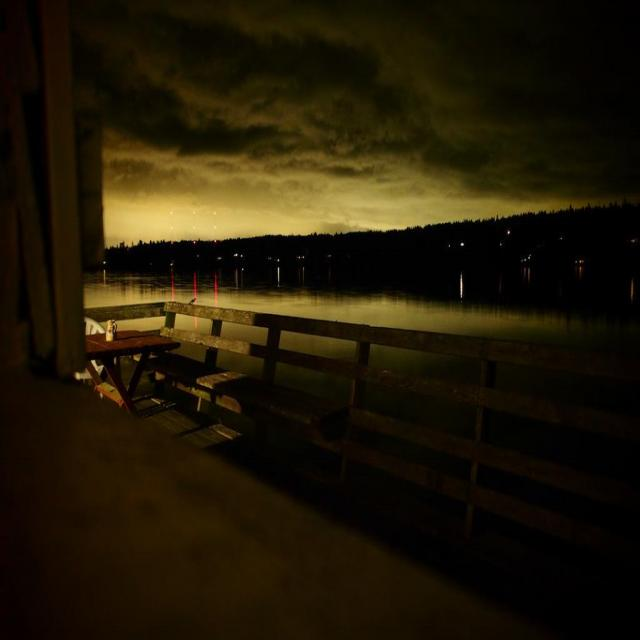table: (64, 305, 203, 424)
